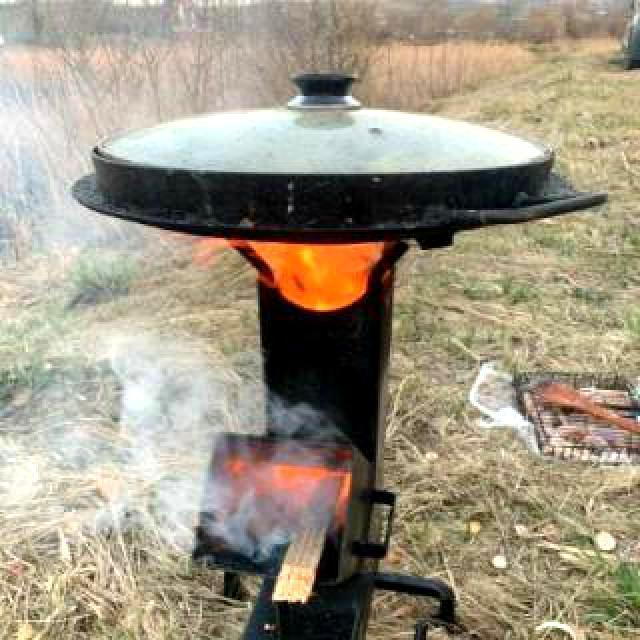Fire: (245, 230, 392, 310), (230, 457, 354, 524)
Smoke: (39, 212, 368, 554), (0, 7, 196, 547)
